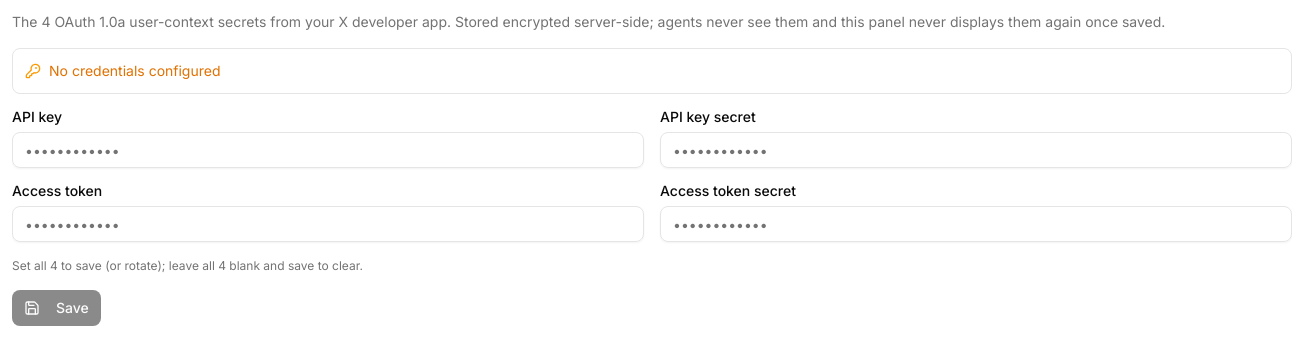
Test case: XCredentialsForm › disables Save until all 4 fields are filled
Expected: the text "No credentials configured" is shown, [49,61,220,81]
Expected: the button "Save" is disabled, [12,290,101,326]
Step 1. Type "ak" into the password field labelled "API key" → point(328, 150), box [12,132,644,168]
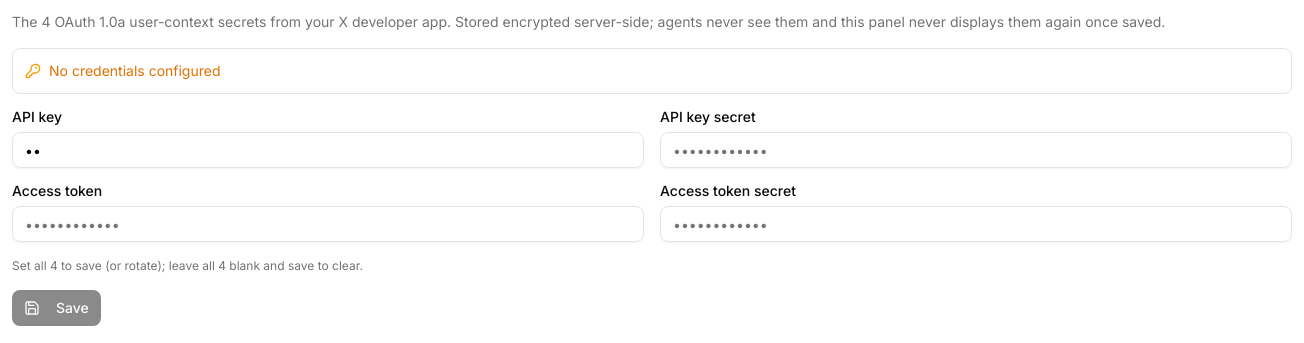
Expected: the button "Save" is disabled, [12,290,101,326]
Step 2. Type "as" into the password field labelled "API key secret" → point(976, 150), box [660,132,1292,168]
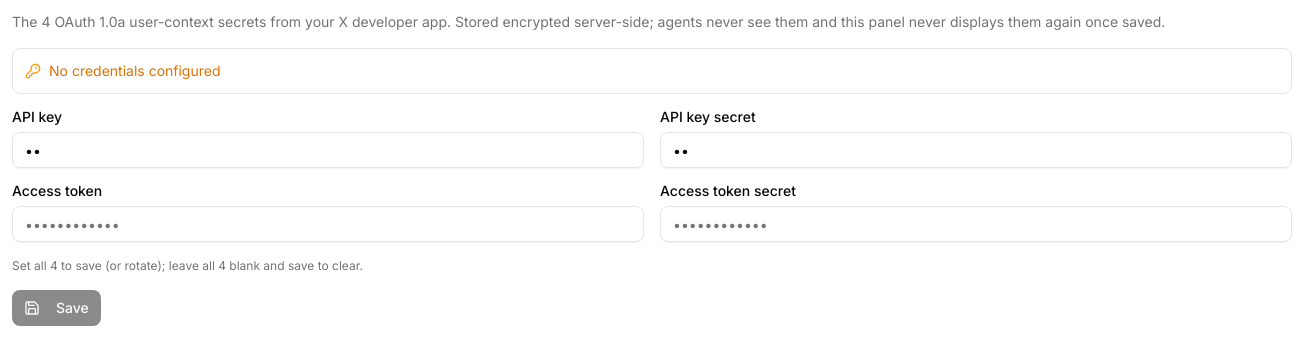
Step 3. Type "at" into the password field labelled "Access token" → point(328, 224), box [12,206,644,242]
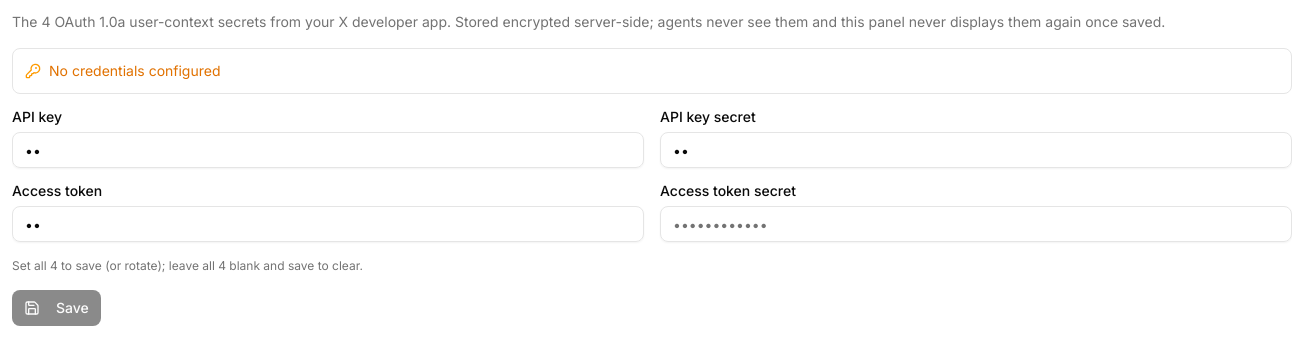
Step 4. Type "ats" into the password field labelled "Access token secret" → point(976, 224), box [660,206,1292,242]
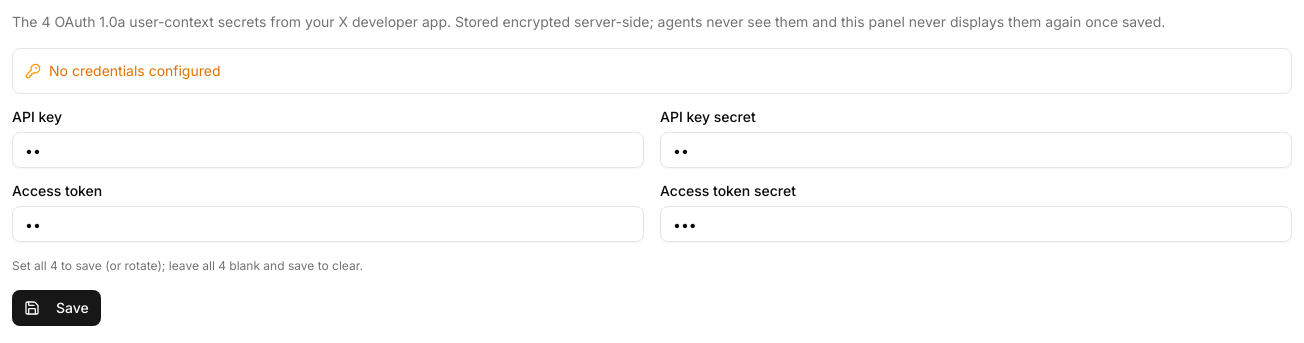
Expected: the button "Save" is enabled, [12,290,101,326]
